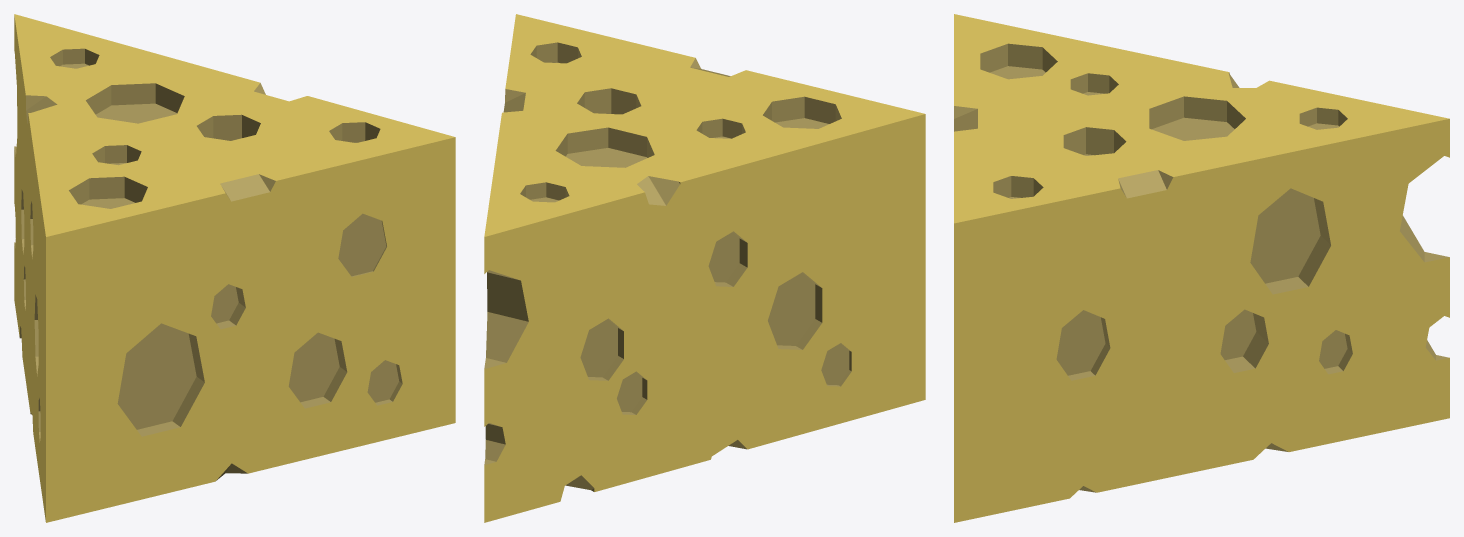
The model's file is Cheese_Block.fbx.
3 renders of one model, left to right at view 1: azimuth 30°, elevation 25°; view 2: azimuth 150°, elevation 25°; view 3: azimuth 270°, elevation 25°, orthographic. The views are drawn at different scales.
Visible parts, largest first — view 1: Cheese_Block; view 2: Cheese_Block; view 3: Cheese_Block.
Boxes of the visible parts, x1,y1,x2,y2 form: Cheese_Block: [14, 14, 455, 522]; Cheese_Block: [484, 14, 925, 522]; Cheese_Block: [954, 14, 1449, 522].
Size of the model in its own units: 60 by 40 by 60.
